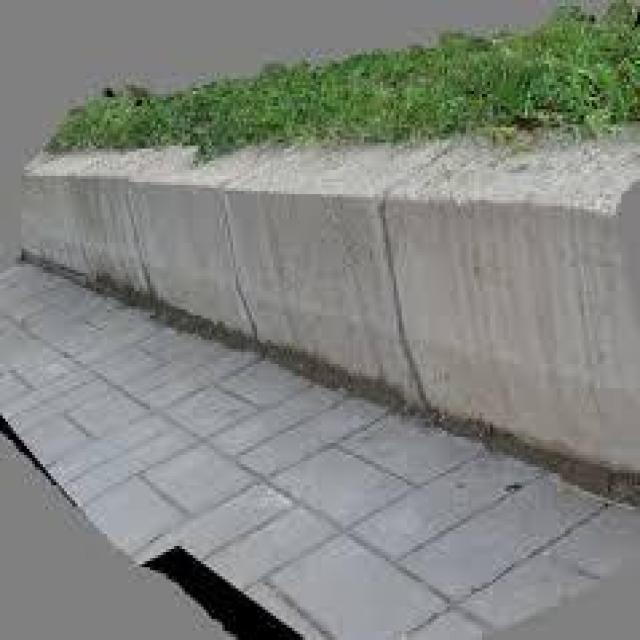bump: (7, 120, 640, 473)
